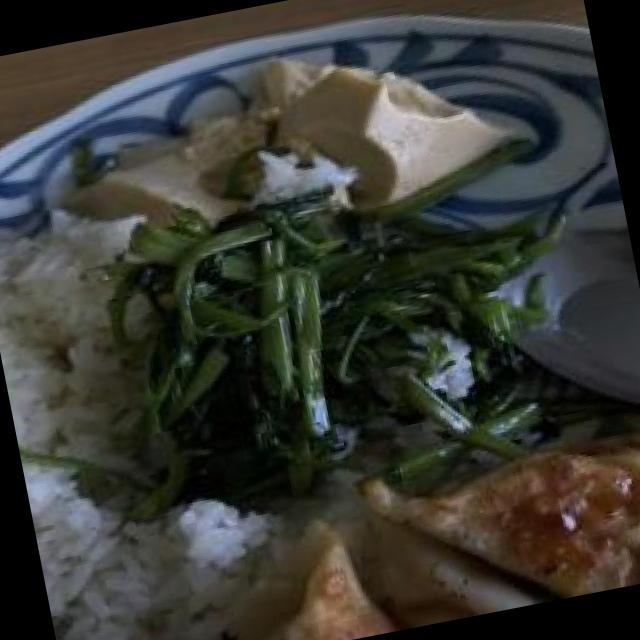fried_dumplings: (260, 432, 640, 640)
rice: (0, 218, 195, 640)
water_spinach: (140, 218, 471, 494)
